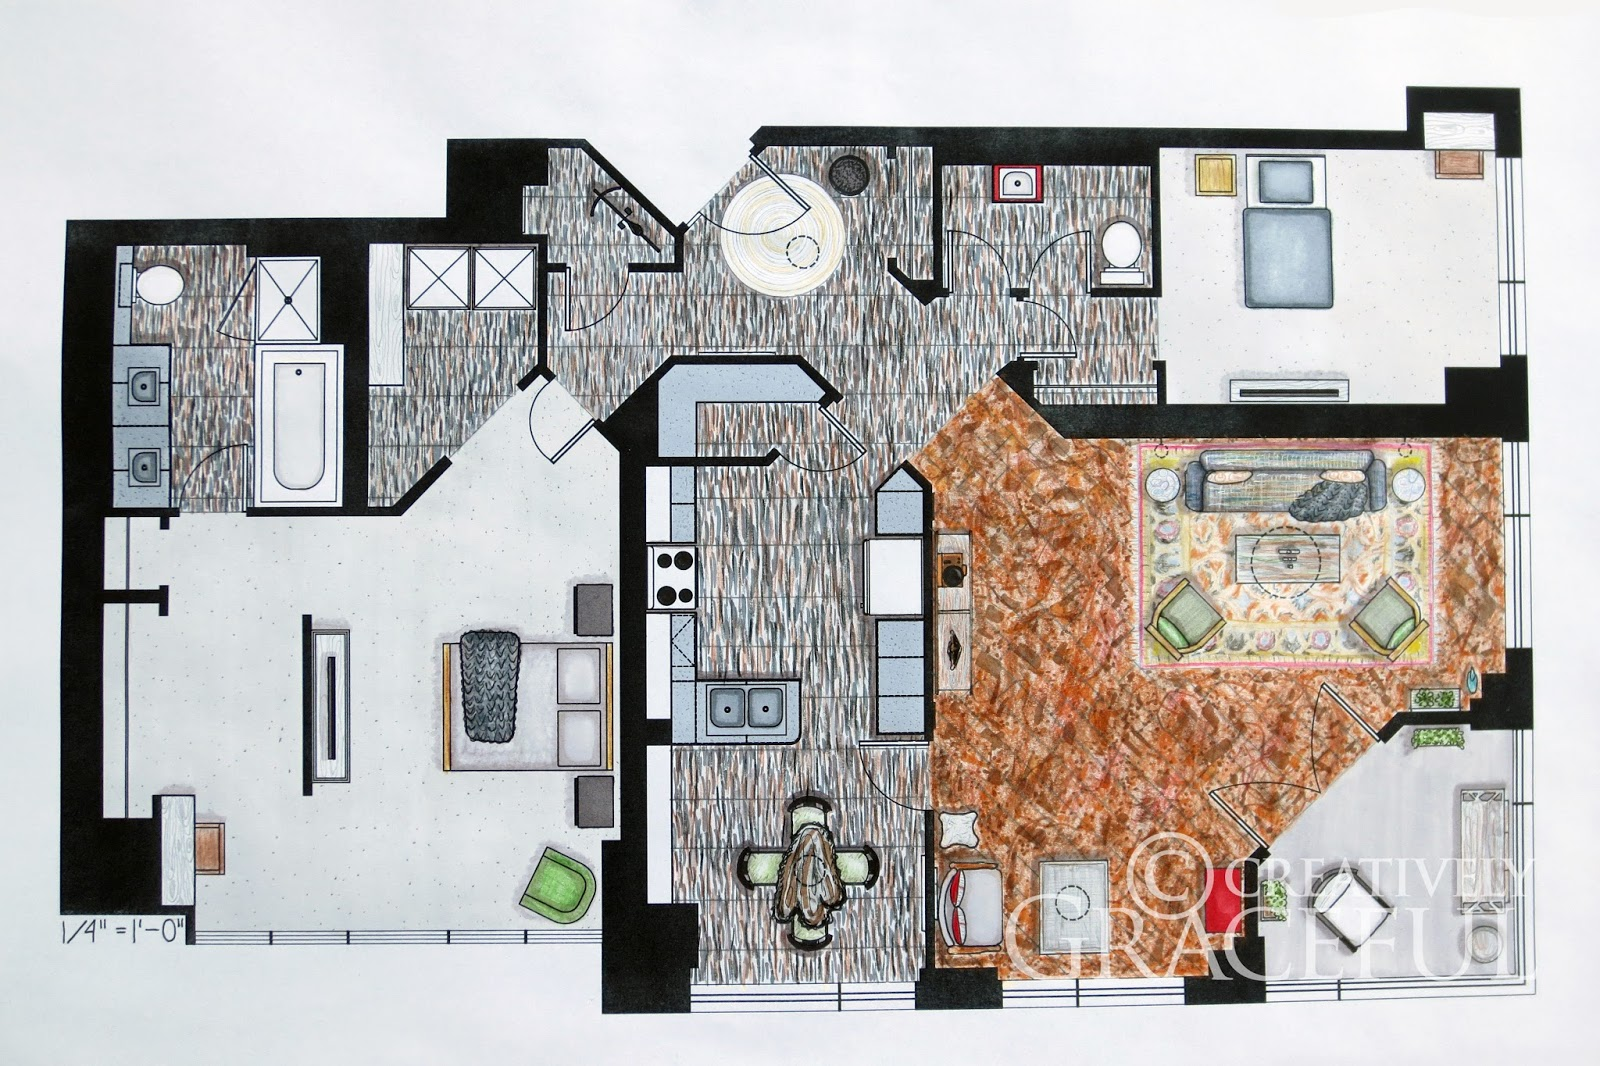door: (517, 385, 595, 471), (779, 409, 865, 478), (558, 271, 630, 338), (1025, 222, 1094, 291), (1023, 295, 1085, 362), (946, 234, 1014, 290)
room: (65, 220, 368, 516), (1495, 158, 1530, 357), (1502, 443, 1535, 650), (690, 984, 920, 1012), (1000, 979, 1184, 1008)
